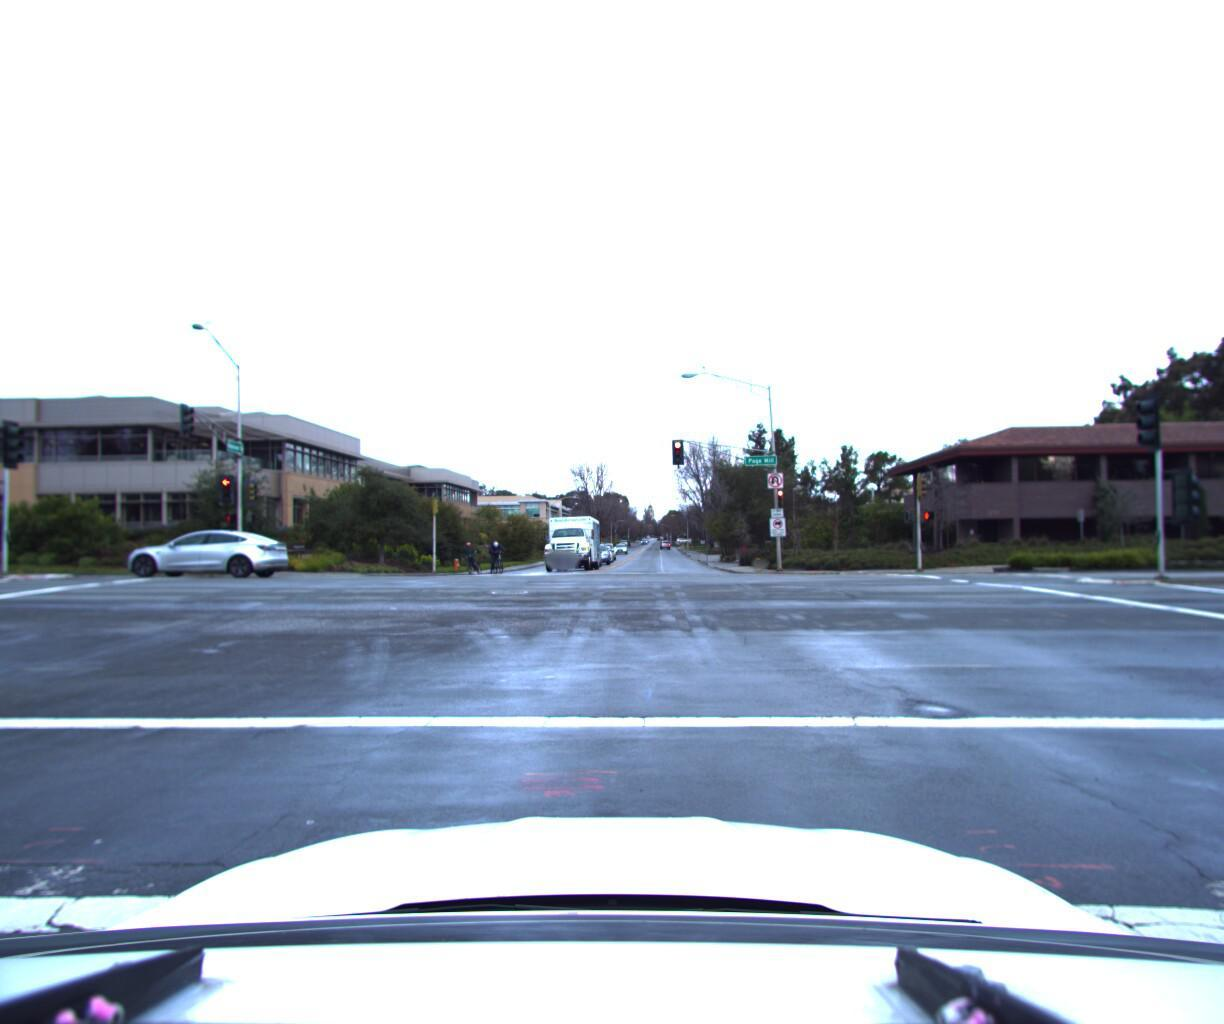bicycle: (461, 538, 491, 577), (488, 537, 506, 575)
car: (113, 531, 296, 589), (588, 541, 617, 566), (0, 523, 4, 594)
truck: (538, 510, 609, 574)
